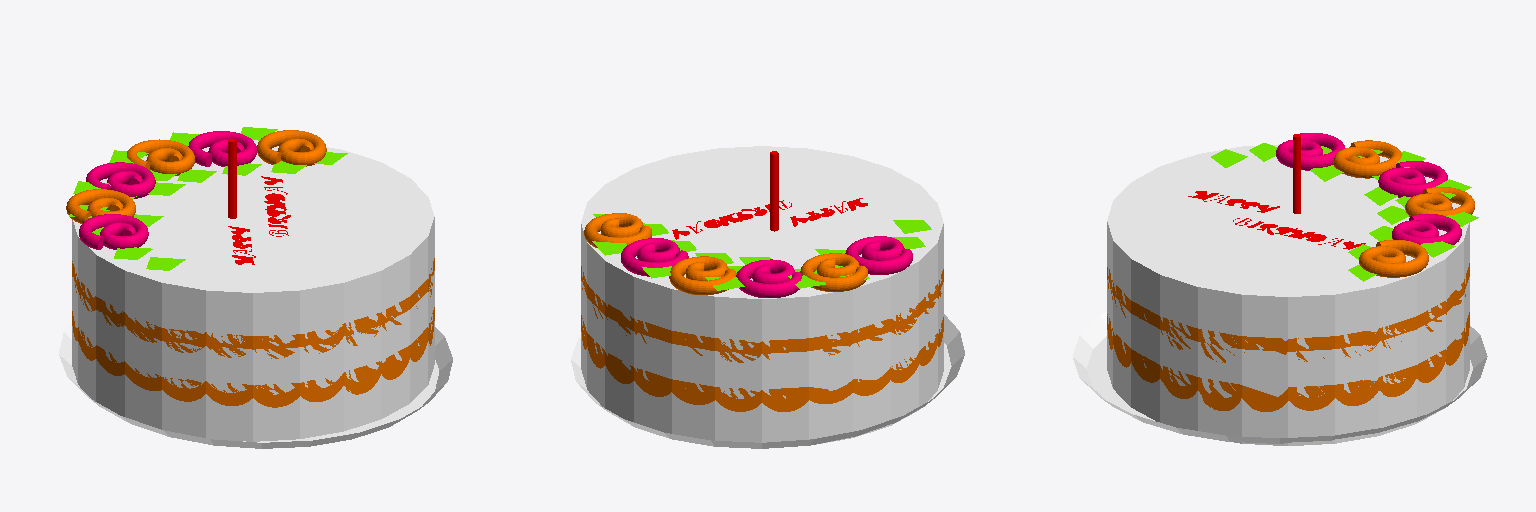
File: cake.obj
3 views of the same model, side by side, from view 1: azimuth 30°, elevation 25°; view 2: azimuth 150°, elevation 25°; view 3: azimuth 270°, elevation 25° (orthographic).
Parts seen in each view (by area): view 1: Mesh38 Group1 Model, Mesh24 Group25 Group1 Model, Mesh16 Group17 Group1 Model, Mesh17 Group18 Group1 Model, Mesh20 Group21 Group1 Model, Mesh4 Group5 Group1 Model, Mesh19 Group20 Group1 Model, Mesh21 Group22 Group1 Model; view 2: Mesh38 Group1 Model, Mesh24 Group25 Group1 Model, Mesh20 Group21 Group1 Model, Mesh21 Group22 Group1 Model, Mesh4 Group5 Group1 Model, Mesh16 Group17 Group1 Model, Mesh19 Group20 Group1 Model, Mesh17 Group18 Group1 Model; view 3: Mesh38 Group1 Model, Mesh24 Group25 Group1 Model, Mesh17 Group18 Group1 Model, Mesh21 Group22 Group1 Model, Mesh20 Group21 Group1 Model, Mesh19 Group20 Group1 Model, Mesh16 Group17 Group1 Model, Mesh4 Group5 Group1 Model.
Boxes of the visible parts, x1,y1,x2,y2 form: Mesh38 Group1 Model: [72, 139, 434, 441]; Mesh24 Group25 Group1 Model: [59, 323, 452, 448]; Mesh16 Group17 Group1 Model: [79, 214, 148, 249]; Mesh17 Group18 Group1 Model: [257, 130, 326, 166]; Mesh20 Group21 Group1 Model: [86, 162, 155, 198]; Mesh4 Group5 Group1 Model: [127, 139, 194, 175]; Mesh19 Group20 Group1 Model: [188, 131, 256, 166]; Mesh21 Group22 Group1 Model: [66, 189, 135, 223]; Mesh38 Group1 Model: [581, 146, 943, 444]; Mesh24 Group25 Group1 Model: [571, 314, 964, 448]; Mesh20 Group21 Group1 Model: [736, 259, 802, 297]; Mesh21 Group22 Group1 Model: [800, 253, 867, 291]; Mesh4 Group5 Group1 Model: [669, 256, 736, 294]; Mesh16 Group17 Group1 Model: [845, 236, 912, 274]; Mesh19 Group20 Group1 Model: [621, 238, 688, 276]; Mesh17 Group18 Group1 Model: [584, 213, 651, 247]; Mesh38 Group1 Model: [1107, 134, 1469, 445]; Mesh24 Group25 Group1 Model: [1072, 312, 1487, 443]; Mesh17 Group18 Group1 Model: [1359, 240, 1428, 277]; Mesh21 Group22 Group1 Model: [1333, 140, 1401, 178]; Mesh20 Group21 Group1 Model: [1378, 161, 1447, 197]; Mesh19 Group20 Group1 Model: [1392, 214, 1461, 244]; Mesh16 Group17 Group1 Model: [1276, 133, 1344, 170]; Mesh4 Group5 Group1 Model: [1405, 187, 1474, 216].
Bounding box in the file's own units: 289 × 186 × 310.